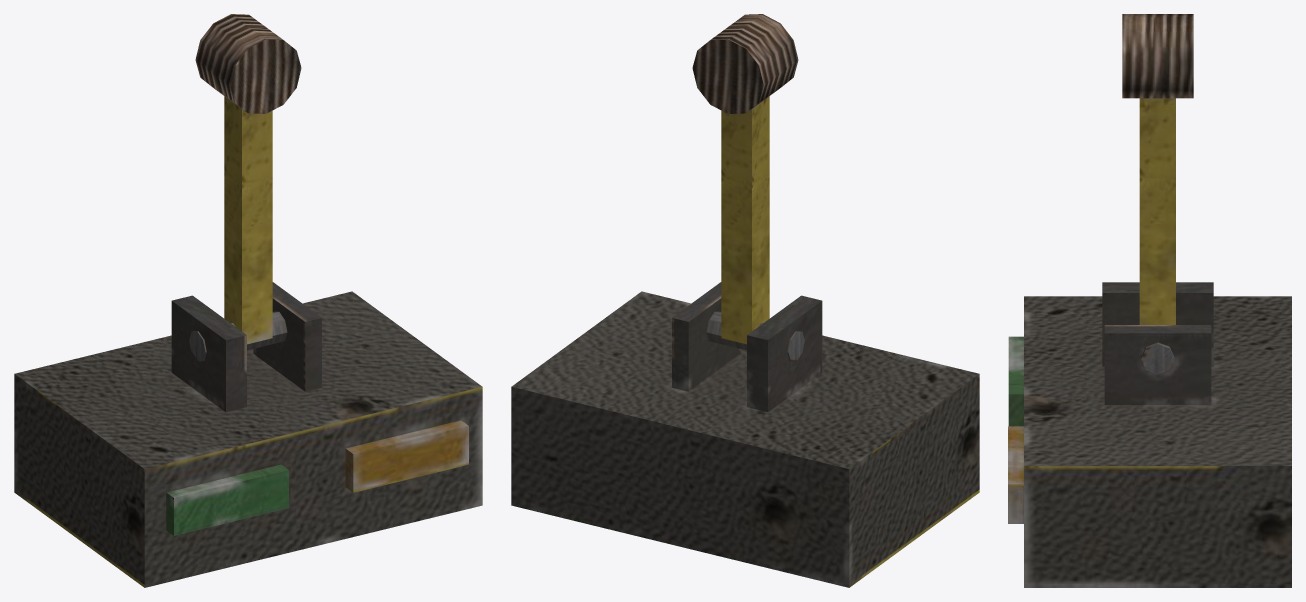
Rendered from feSignalLever.glb.
The picture shows the model from 3 angles, left to right: view 1: azimuth 30°, elevation 25°; view 2: azimuth 150°, elevation 25°; view 3: azimuth 270°, elevation 25°; orthographic projection. The views are drawn at different scales.
Parts seen in each view (by area): view 1: feSignalLever_Base, FeLever_Signal; view 2: feSignalLever_Base, FeLever_Signal; view 3: feSignalLever_Base, FeLever_Signal.
Part boxes in pixels (left/top/right/bottom): feSignalLever_Base: left=14, top=282, right=482, bottom=587; FeLever_Signal: left=195, top=14, right=301, bottom=344; feSignalLever_Base: left=511, top=282, right=979, bottom=587; FeLever_Signal: left=692, top=14, right=798, bottom=344; feSignalLever_Base: left=1008, top=282, right=1291, bottom=587; FeLever_Signal: left=1122, top=14, right=1193, bottom=324.
Bounding box in the file's own units: 0.3012 × 0.4024 × 0.2131.
1 material, 1 textured.
